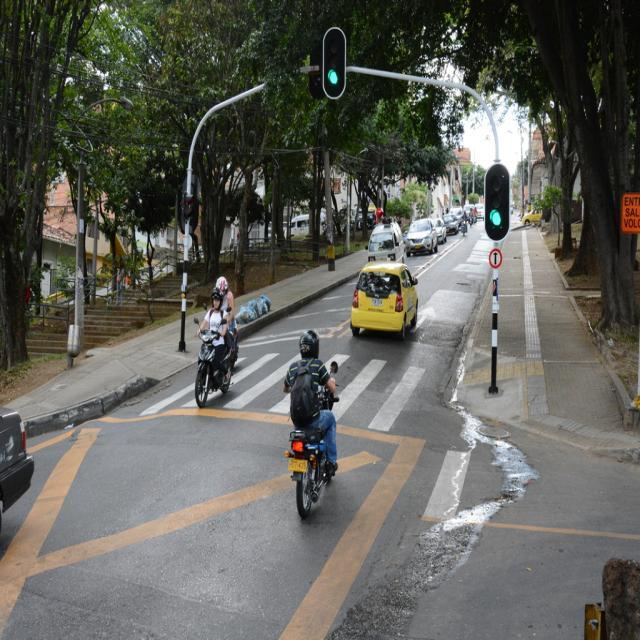traffic light: (483, 165, 510, 238), (323, 24, 345, 97)
